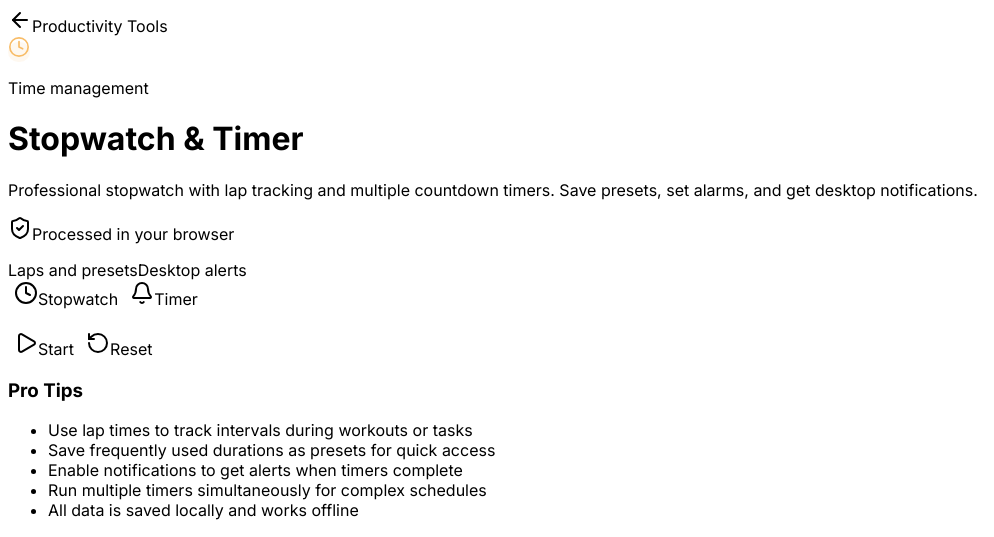
Test: StopwatchTimerPage › Stopwatch Mode › Controls › changes Start to Pause when clicked
Click the button "Start" at (44, 345), box [8,330,80,360]
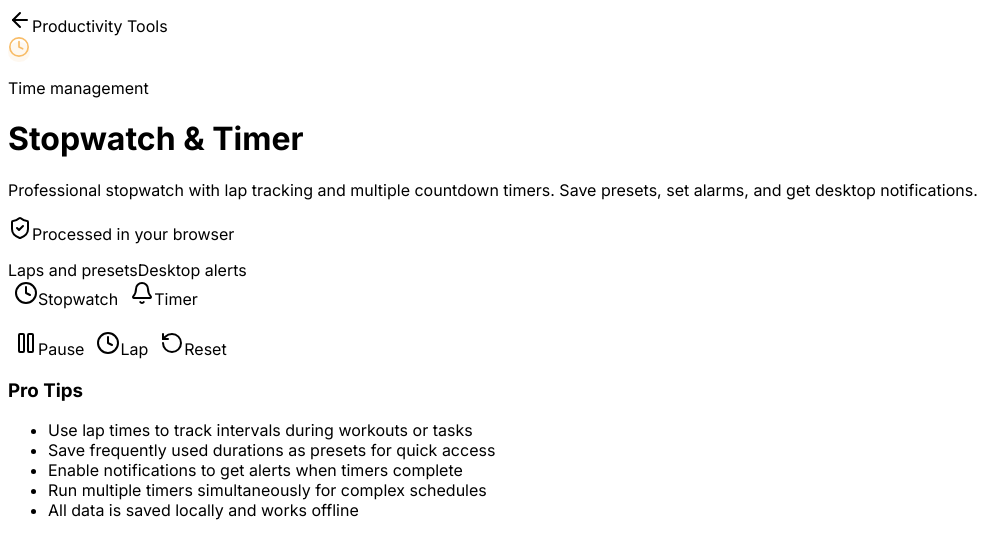
Check: the button "Pause" is shown, box [8,330,90,360]
Check: the button "Start" is gone
